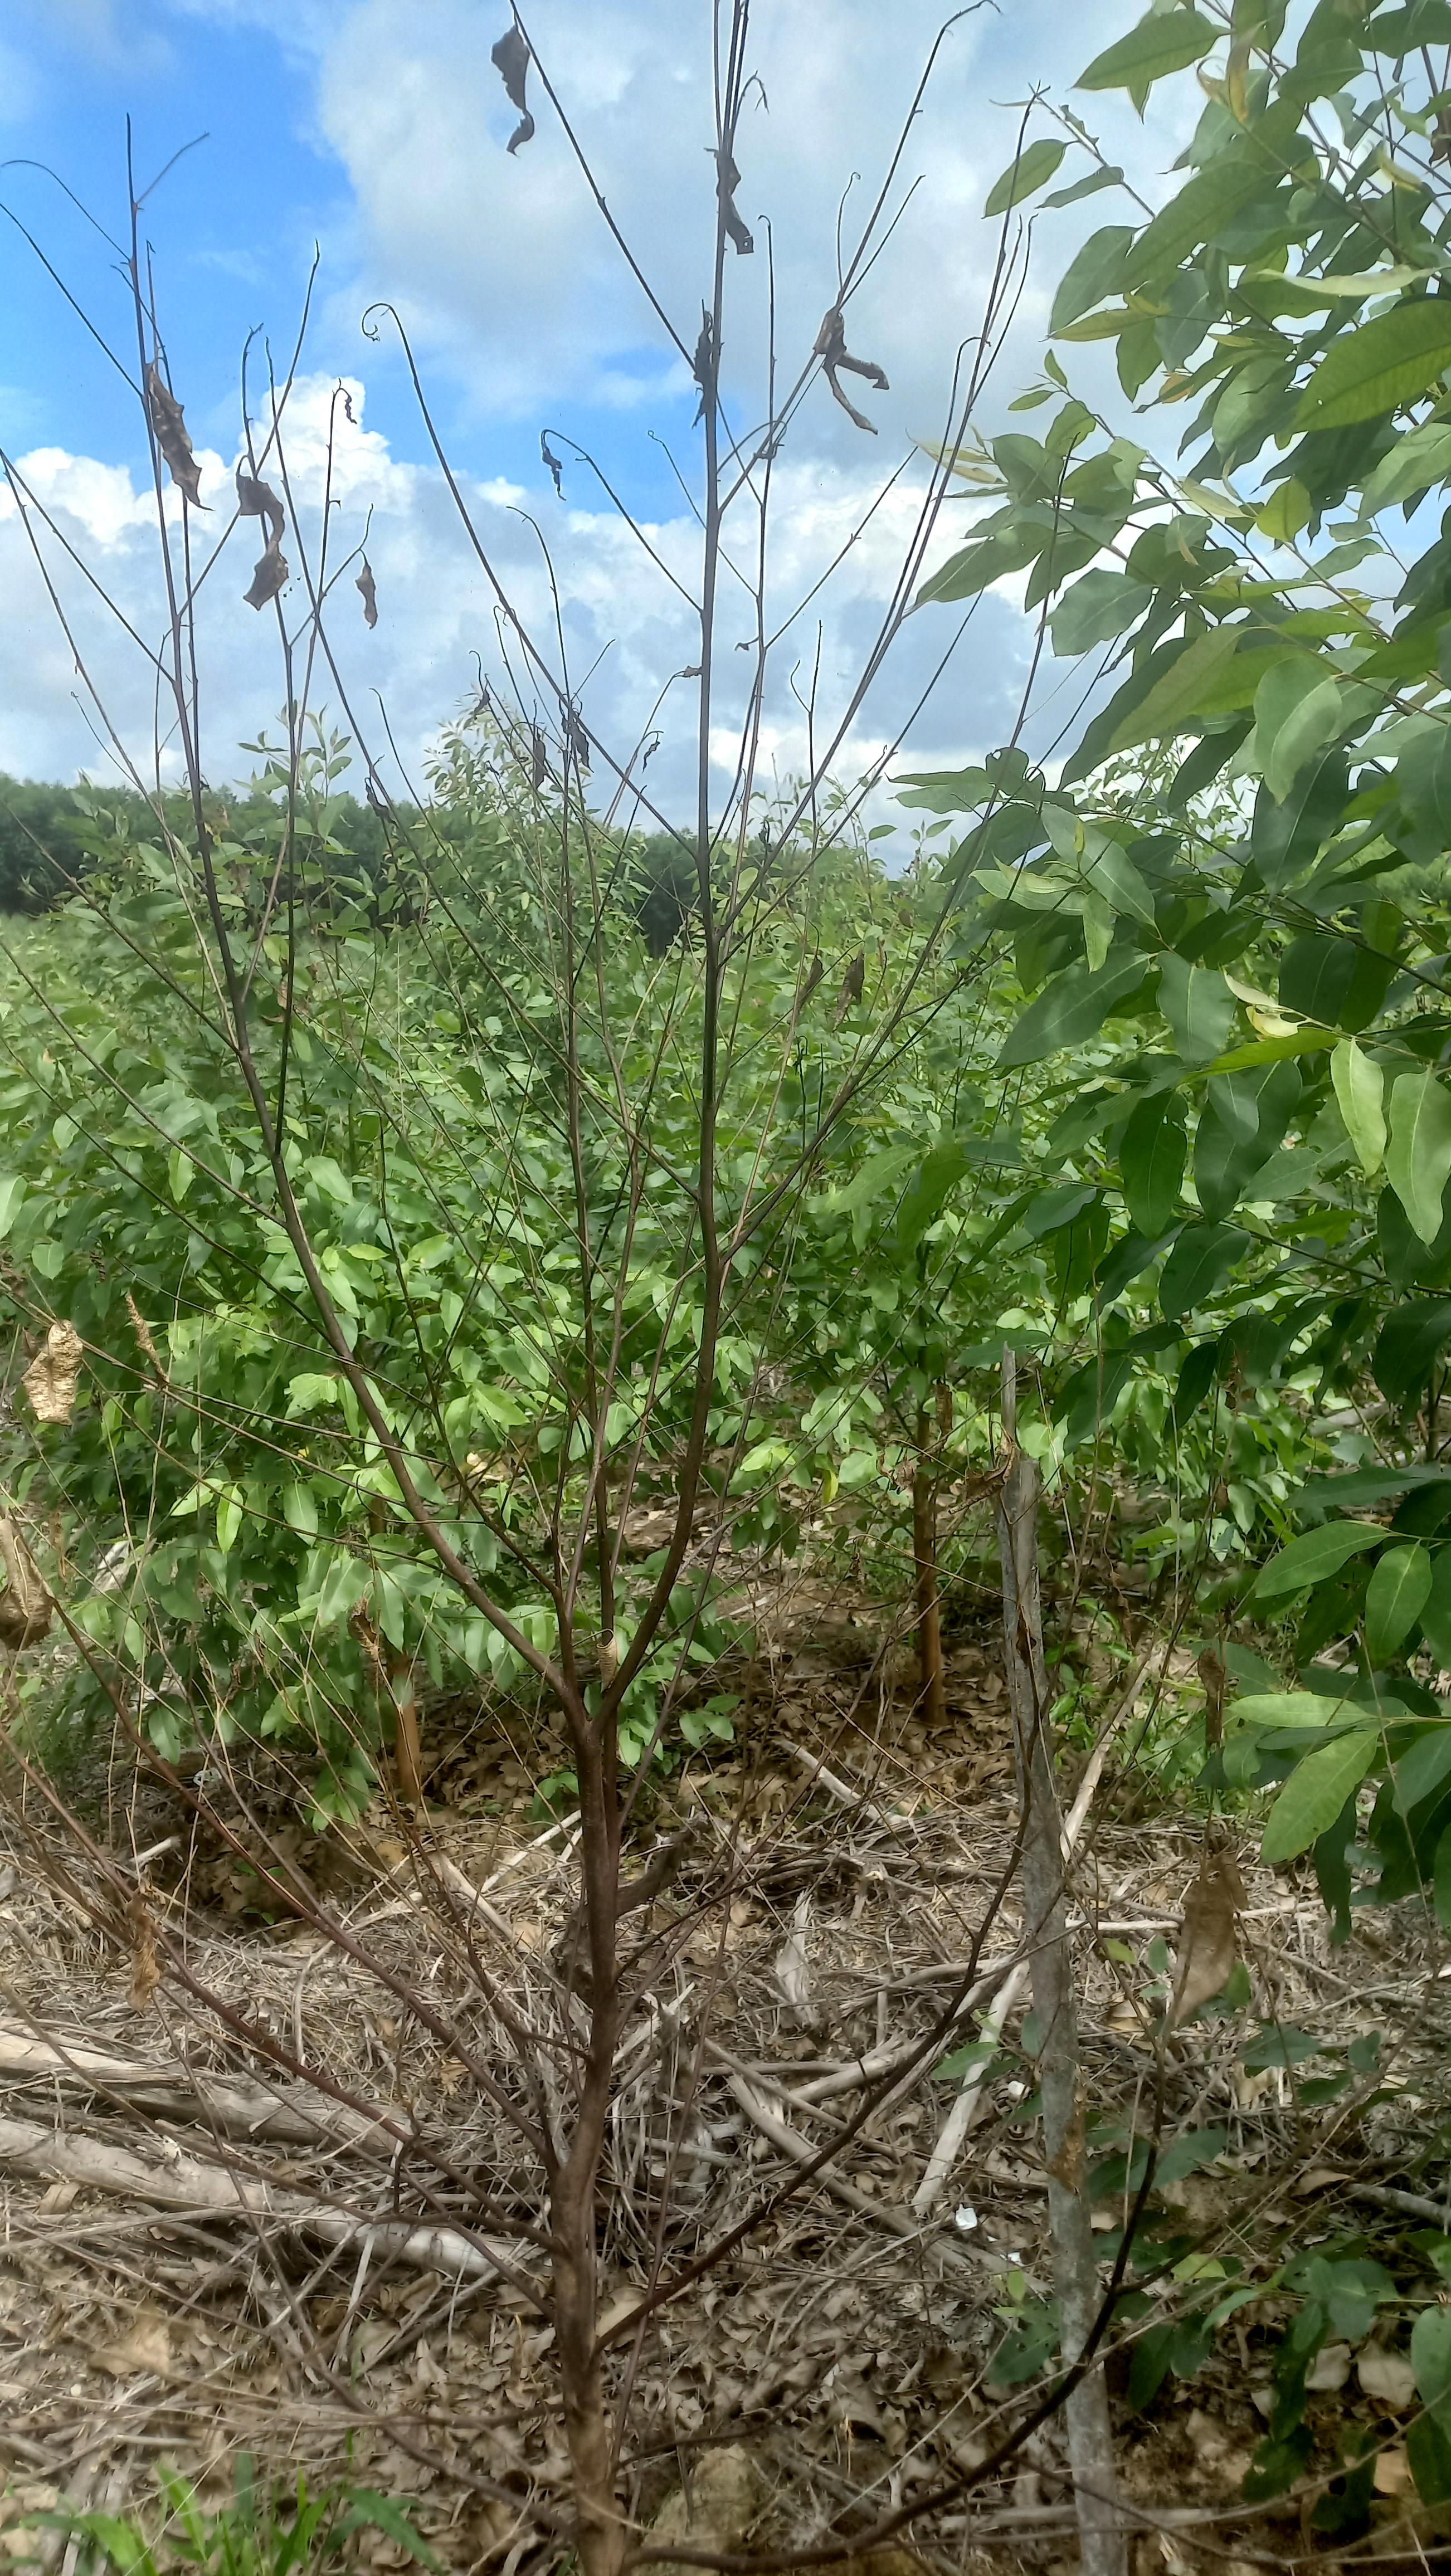Helopeltis-Withered Sprout: (812, 304, 902, 441), (138, 359, 207, 506), (472, 18, 545, 150), (706, 99, 759, 253), (239, 474, 294, 616), (0, 1513, 53, 1654), (19, 1320, 83, 1426), (948, 1435, 1017, 1514), (126, 1867, 161, 2017), (124, 1290, 168, 1391), (695, 303, 725, 425), (561, 692, 603, 770), (1196, 1645, 1226, 1750), (784, 954, 825, 1028), (839, 947, 878, 1014), (356, 550, 386, 635), (533, 435, 568, 504), (453, 676, 494, 731), (349, 1598, 382, 1661), (228, 1633, 267, 1688), (527, 715, 550, 807), (878, 1444, 918, 1495), (1219, 1339, 1246, 1410), (595, 1635, 625, 1693), (274, 980, 311, 1016), (1016, 1610, 1039, 1667), (639, 734, 664, 775), (936, 1378, 954, 1433), (182, 768, 211, 796), (1214, 1477, 1233, 1514), (674, 662, 704, 679), (733, 635, 752, 655)
